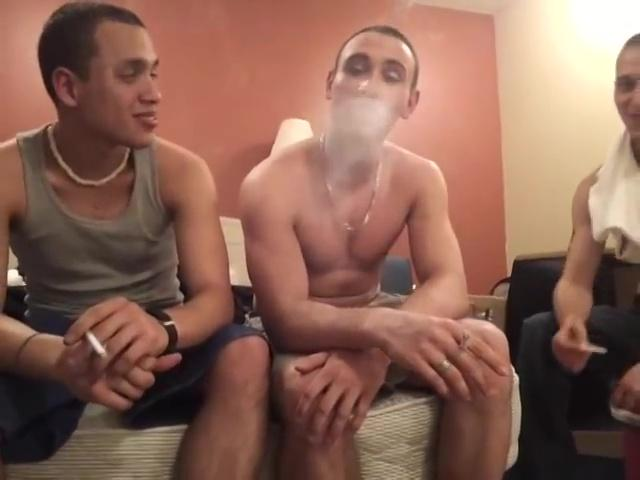cigarette: (83, 330, 108, 359), (579, 341, 611, 354), (457, 330, 471, 352)
